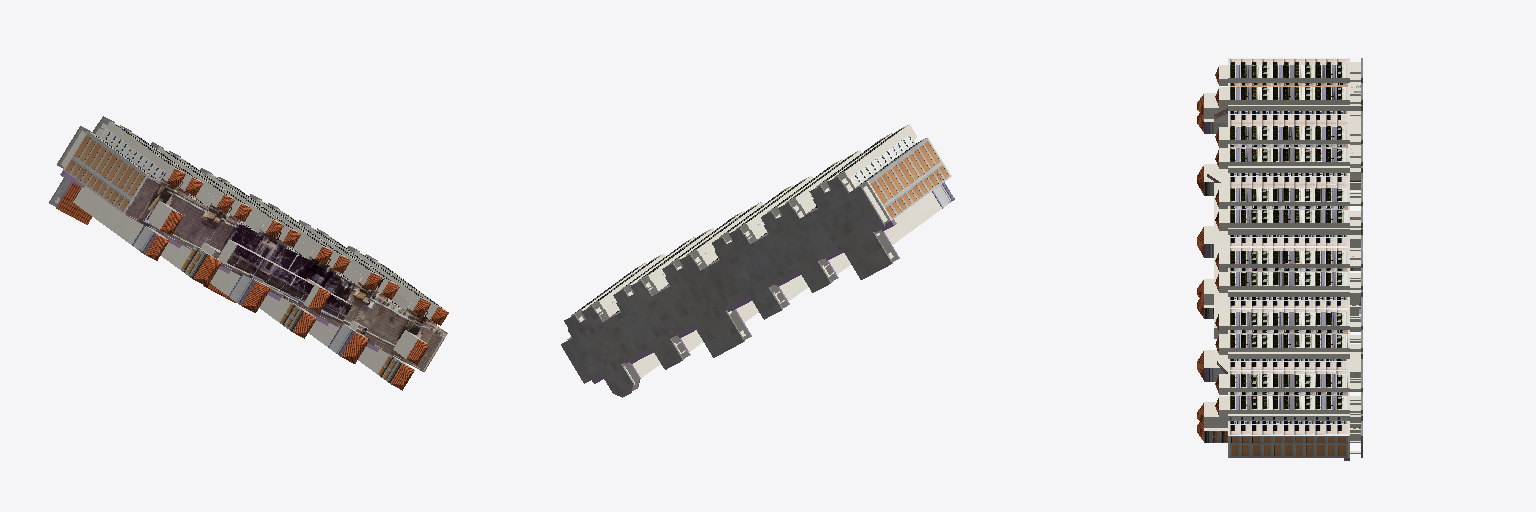
3 renders of one model, left to right at view 1: azimuth 30°, elevation 25°; view 2: azimuth 150°, elevation 25°; view 3: azimuth 270°, elevation 25°, orthographic.
Parts seen in each view (by area): view 1: polygon.017; view 2: polygon.017; view 3: polygon.017.
Boxes of the visible parts, <box> form: polygon.017: <box>49,116,448,390</box>; polygon.017: <box>561,124,954,397</box>; polygon.017: <box>1197,58,1362,460</box>.
Bounding box in the file's own units: 98.18 × 77.4 × 42.59.
1 materials, 1 textured.